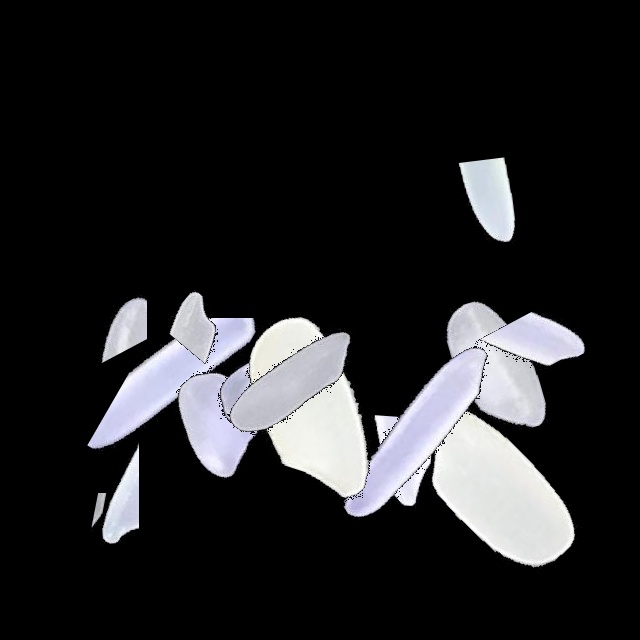Broken: (83, 318, 333, 482), (473, 251, 587, 501), (329, 346, 440, 596), (168, 183, 276, 433), (33, 329, 139, 579), (434, 87, 539, 337), (52, 185, 147, 435), (11, 493, 261, 586)
Full: (90, 295, 340, 545), (148, 261, 398, 511), (371, 242, 621, 492), (367, 361, 617, 611), (292, 306, 542, 556), (187, 277, 437, 527), (168, 255, 418, 505)
